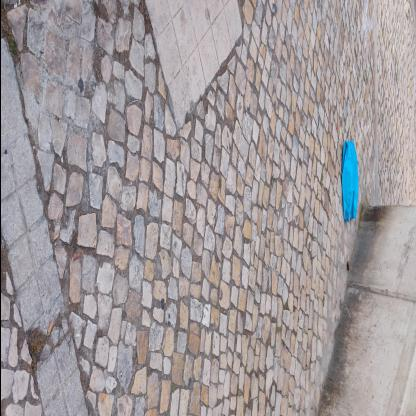plastik: (340, 140, 358, 222)
